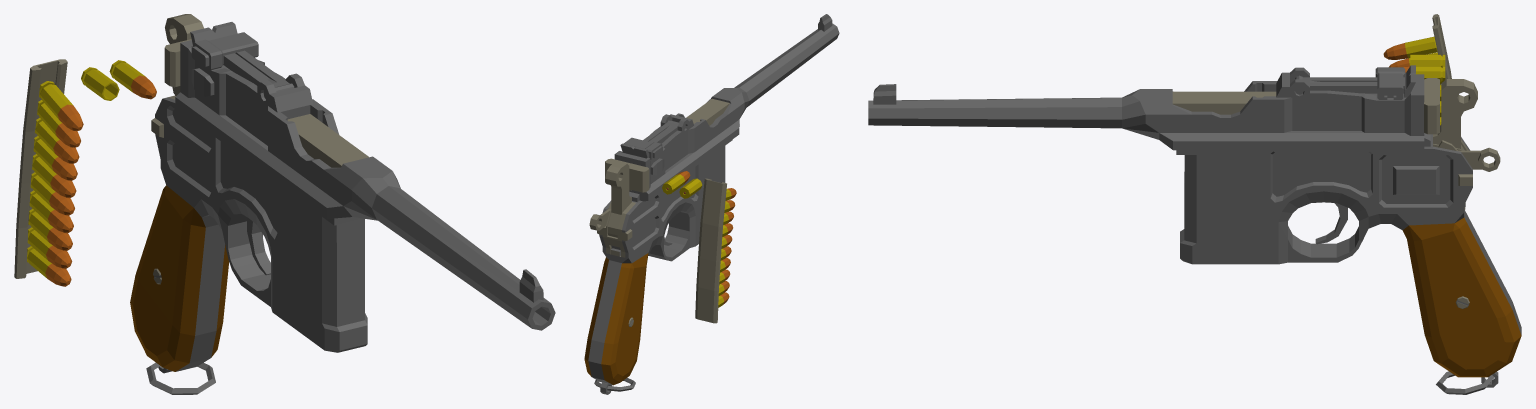
3 views of the same model, side by side, from view 1: azimuth 30°, elevation 25°; view 2: azimuth 150°, elevation 25°; view 3: azimuth 270°, elevation 25° (orthographic). The views are drawn at different scales.
Visible parts, largest first — view 1: Body, Ammo clip, Slide, Bullet, Firing pin, Case, Trigger; view 2: Body, Ammo clip, Slide, Firing pin, Bullet, Case; view 3: Body, Slide, Firing pin, Ammo clip.
Boxes of the visible parts, x1,y1,x2,y2 form: Body: [130, 22, 555, 394]; Ammo clip: [14, 59, 83, 286]; Slide: [164, 39, 368, 167]; Bullet: [109, 60, 156, 99]; Firing pin: [165, 14, 203, 95]; Case: [81, 67, 119, 100]; Trigger: [247, 217, 270, 275]; Body: [584, 14, 839, 394]; Ammo clip: [695, 178, 736, 323]; Slide: [605, 98, 729, 192]; Firing pin: [605, 161, 631, 237]; Bullet: [662, 171, 690, 194]; Case: [679, 178, 702, 198]; Body: [868, 65, 1521, 394]; Slide: [1172, 78, 1439, 134]; Firing pin: [1433, 79, 1477, 150]; Ammo clip: [1383, 14, 1465, 209].
Bounding box in the file's own units: 9.25 × 16.55 × 31.28.
